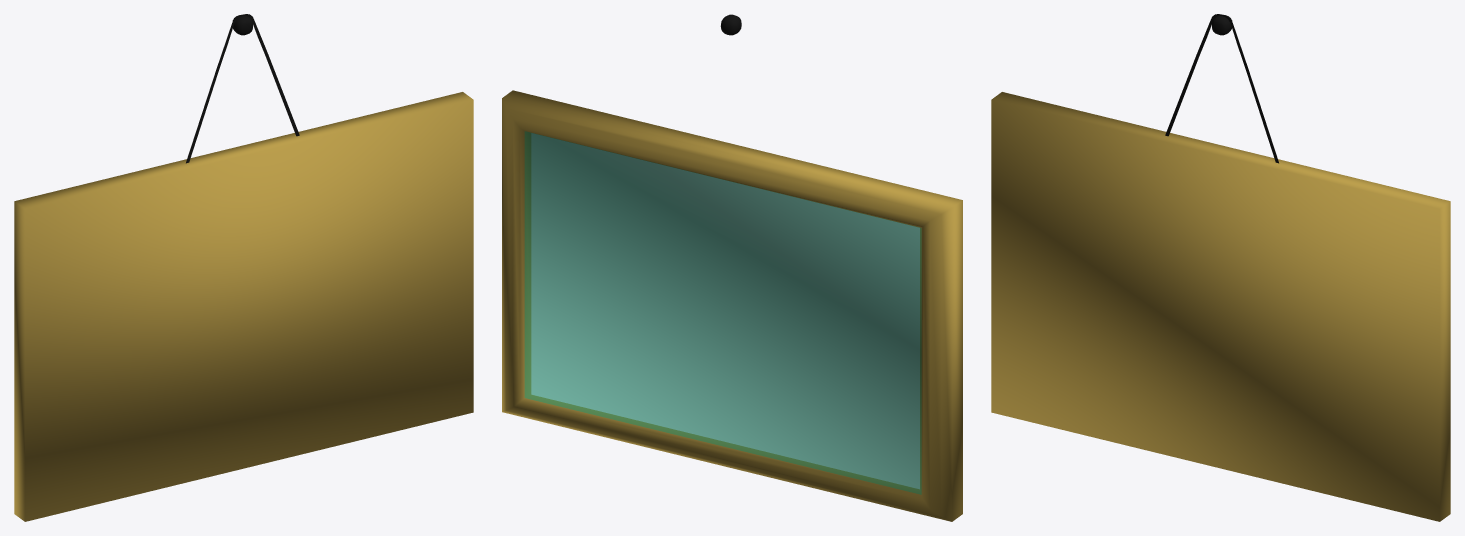
The model's file is PictureFrame.fbx.
3 renders of one model, left to right at view 1: azimuth 30°, elevation 25°; view 2: azimuth 150°, elevation 25°; view 3: azimuth 330°, elevation 25°, orthographic.
Visible parts, largest first — view 1: Picture Frame, String; view 2: Picture Frame; view 3: Picture Frame, String.
Boxes of the visible parts, x1=… form: Picture Frame: x1=14, y1=92, x2=473, y2=521; String: x1=186, y1=14, x2=299, y2=163; Picture Frame: x1=502, y1=90, x2=962, y2=521; Picture Frame: x1=991, y1=92, x2=1450, y2=521; String: x1=1165, y1=14, x2=1278, y2=163.
Size of the model in its own units: 318 by 303 by 20.01.
